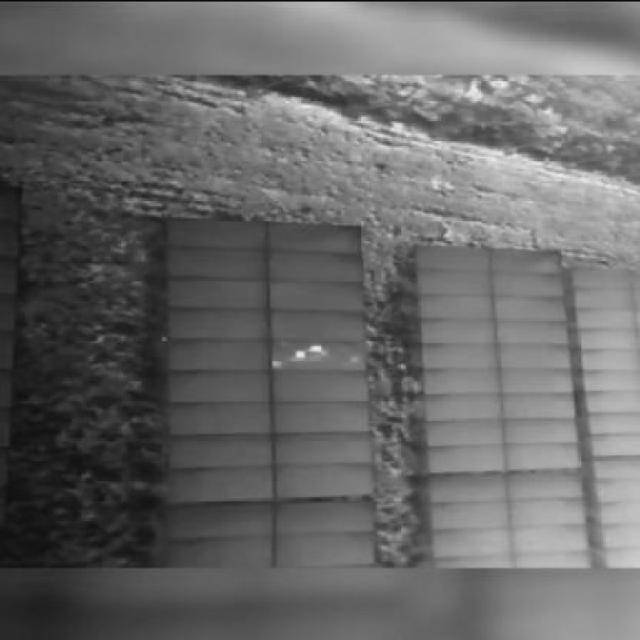hotspot: (269, 357, 285, 366), (309, 342, 325, 351), (296, 348, 309, 357)
